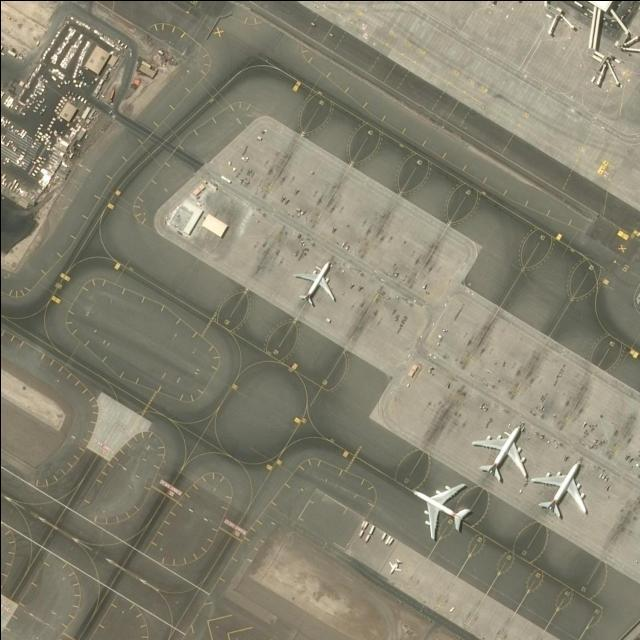Aircraft: (473, 423, 530, 483), (531, 462, 588, 521), (413, 484, 471, 540), (294, 262, 336, 308), (388, 556, 402, 574)
